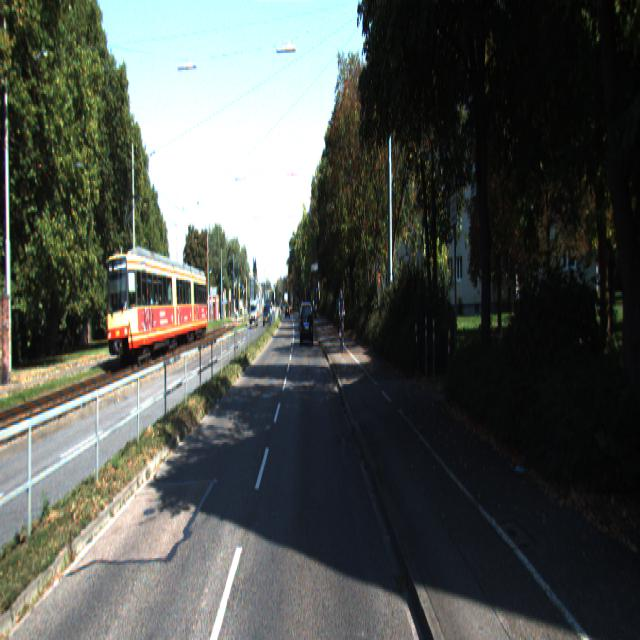Car: (106, 250, 208, 370), (300, 304, 314, 348)
